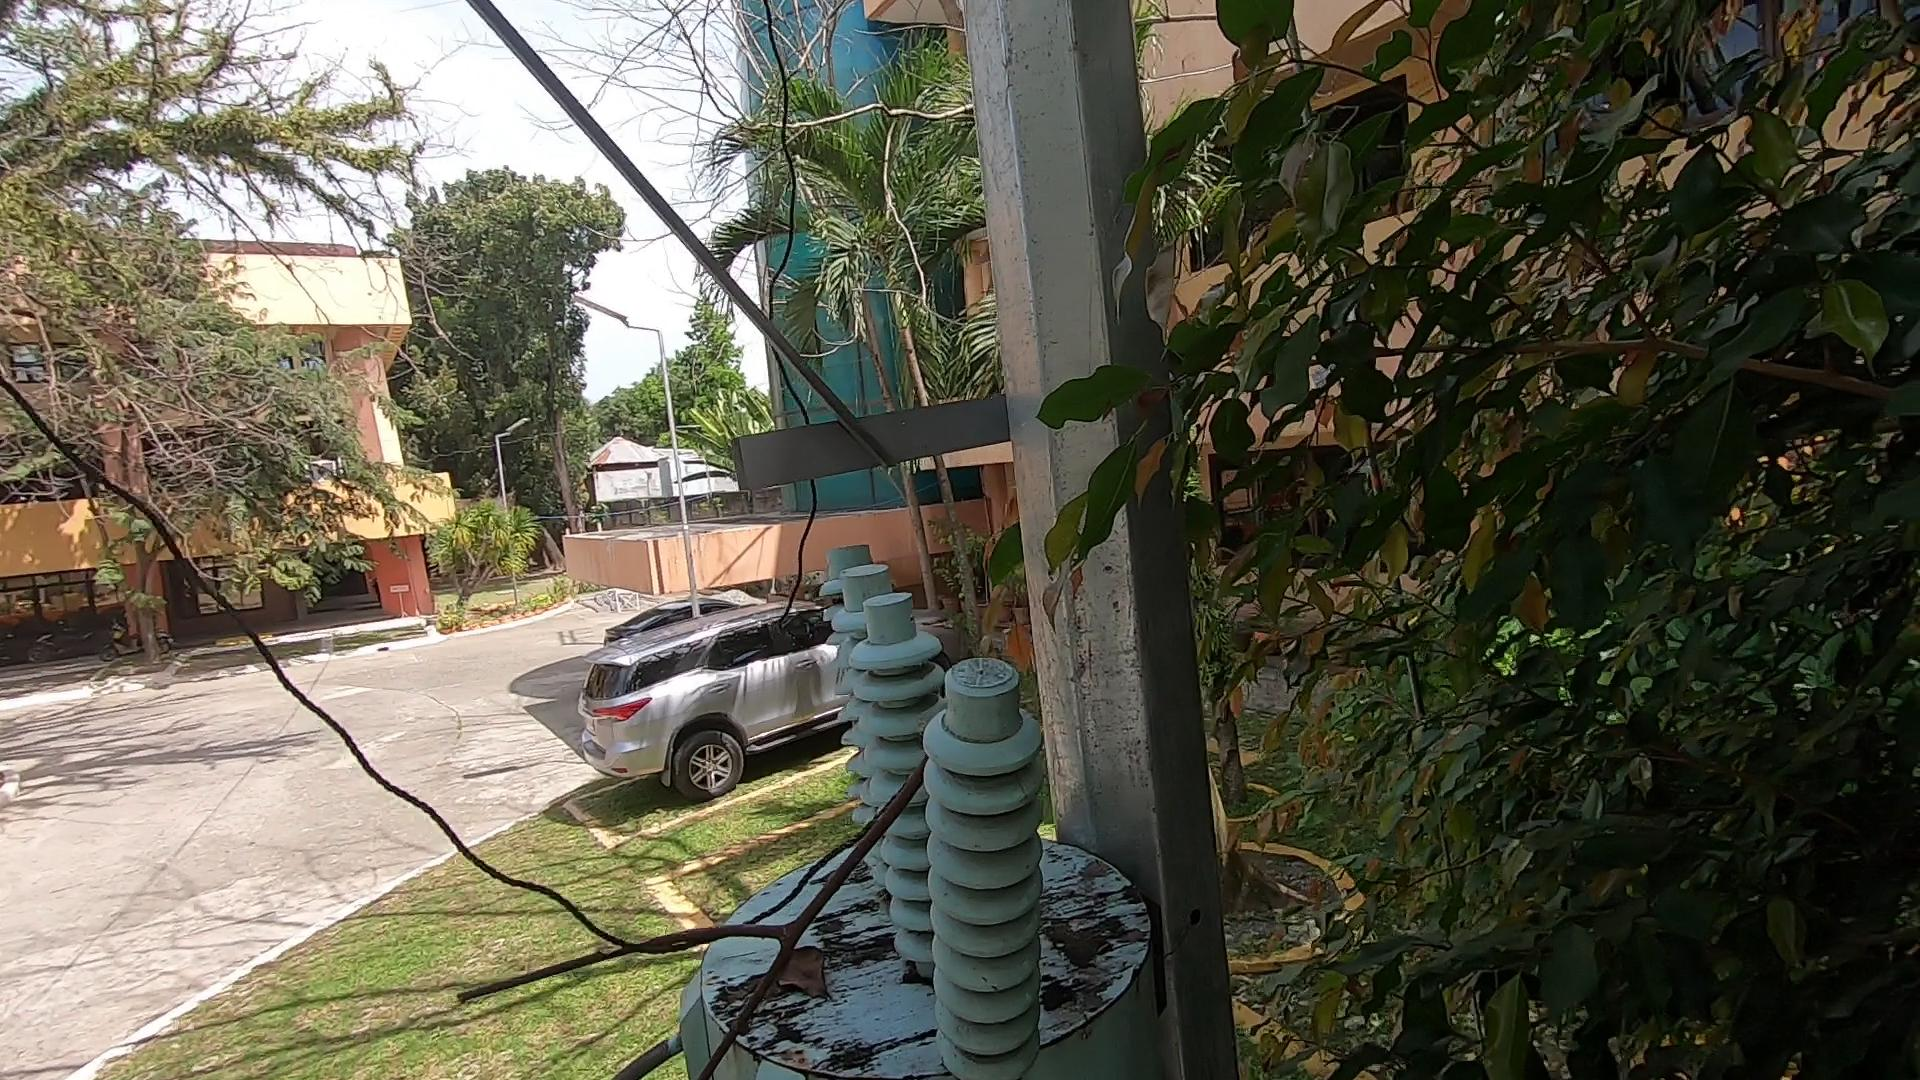leaf: (771, 935, 849, 1011)
tree branch: (427, 716, 1000, 1080)
